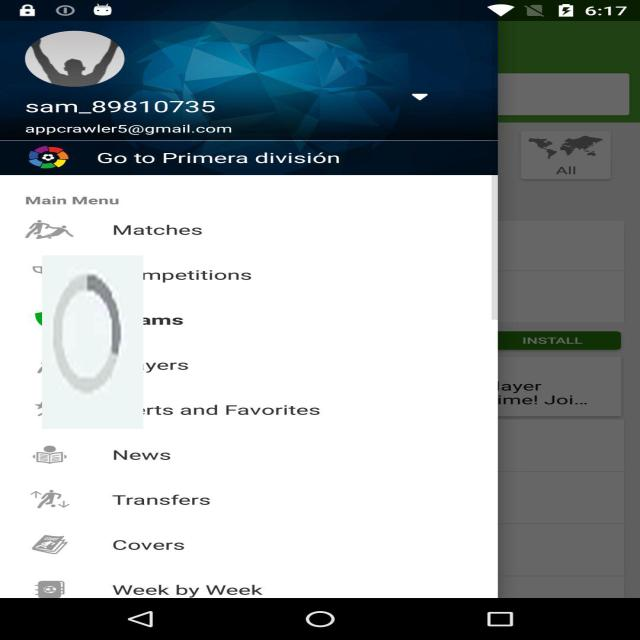misdirection: (42, 255, 143, 429)
